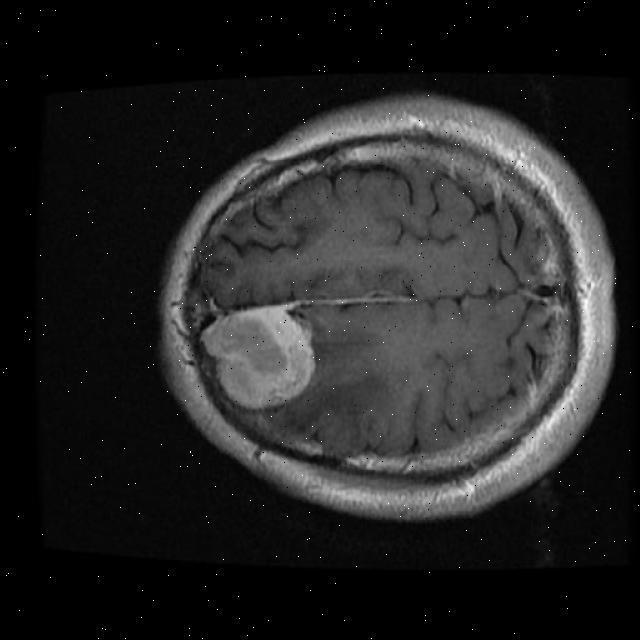Meningioma: (200, 306, 313, 407)
